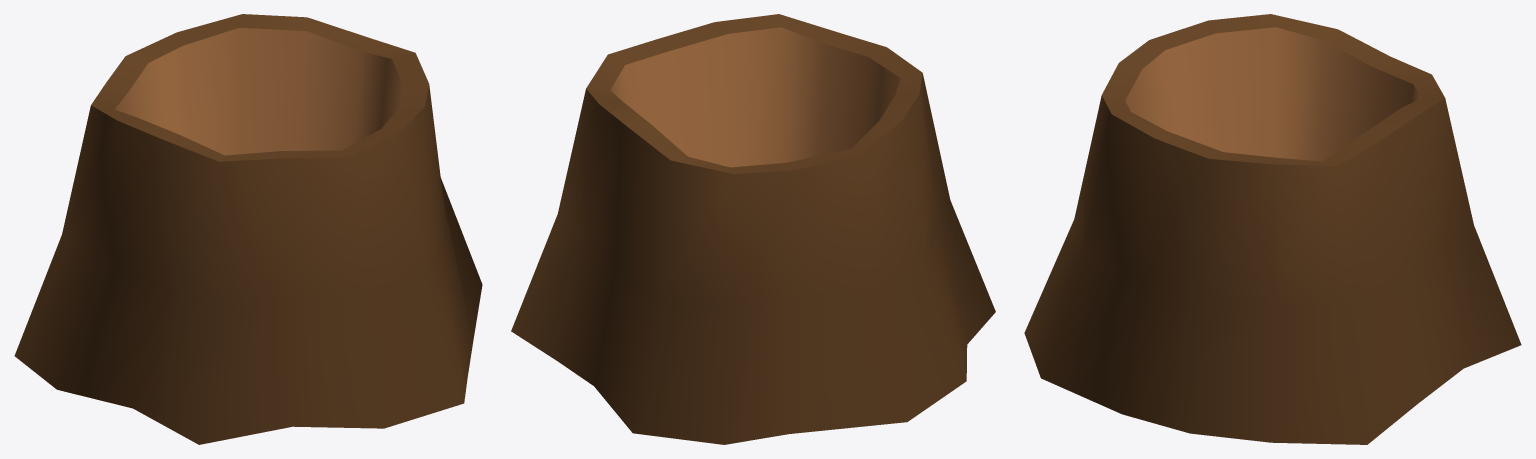
The model's file is Tree_Stump_2.fbx.
The picture shows the model from 3 angles, left to right: view 1: azimuth 30°, elevation 25°; view 2: azimuth 150°, elevation 25°; view 3: azimuth 270°, elevation 25°; orthographic projection.
Parts seen in each view (by area): view 1: Tree_Stump_2; view 2: Tree_Stump_2; view 3: Tree_Stump_2.
Part boxes in pixels (<box>): Tree_Stump_2: <box>14,14,482,444</box>; Tree_Stump_2: <box>511,14,995,444</box>; Tree_Stump_2: <box>1024,14,1521,444</box>.
Bounding box in the file's own units: 101 × 61.72 × 102.
Materials: 1 (1 with a texture image).
